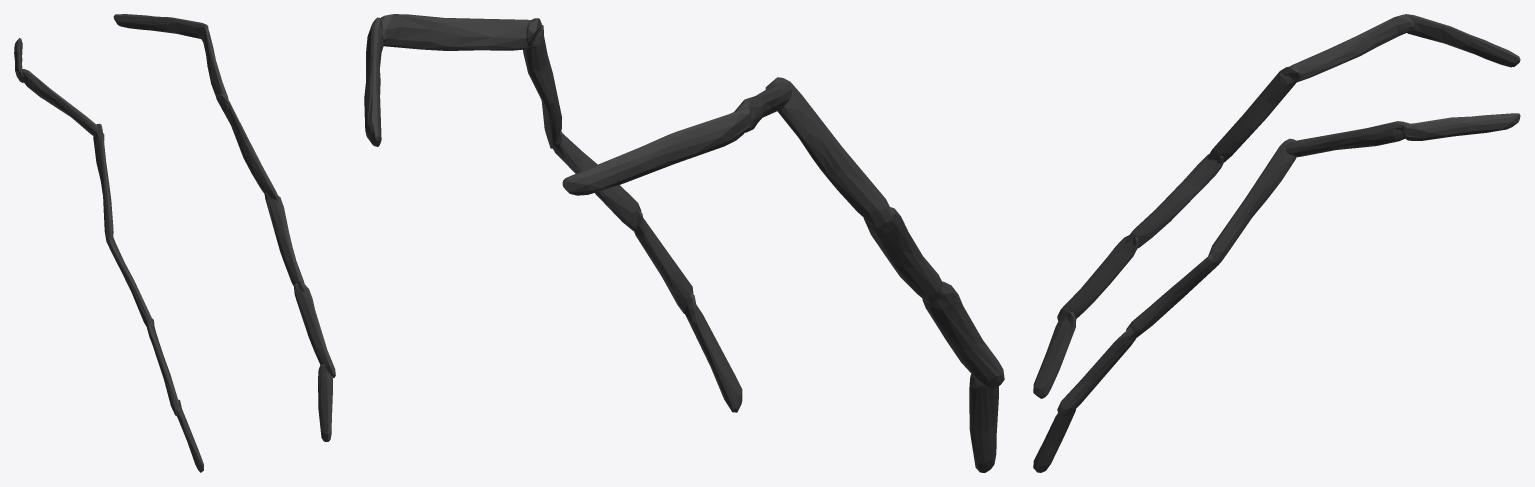
Rendered from m_intertransversarii_medii_cervicis.glb.
3 views of the same model, side by side, from view 1: azimuth 30°, elevation 25°; view 2: azimuth 150°, elevation 25°; view 3: azimuth 270°, elevation 25° (orthographic). The views are drawn at different scales.
Parts seen in each view (by area): view 1: m_intertransversarii_medii_cervicis; view 2: m_intertransversarii_medii_cervicis; view 3: m_intertransversarii_medii_cervicis.
Boxes of the visible parts, x1=… form: m_intertransversarii_medii_cervicis: x1=14, y1=14, x2=335, y2=472; m_intertransversarii_medii_cervicis: x1=364, y1=14, x2=1004, y2=472; m_intertransversarii_medii_cervicis: x1=1033, y1=14, x2=1520, y2=472.
Size of the model in its own units: 0.00165 by 0.00251 by 0.00301.
1 material, 1 textured.
